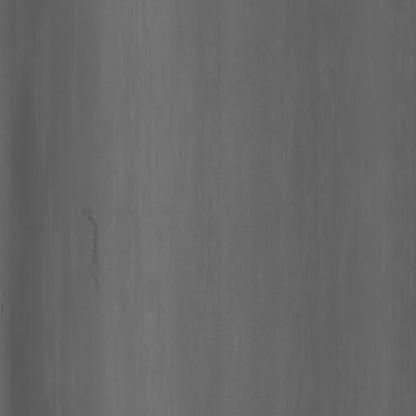water_spot: (80, 185, 112, 293)
